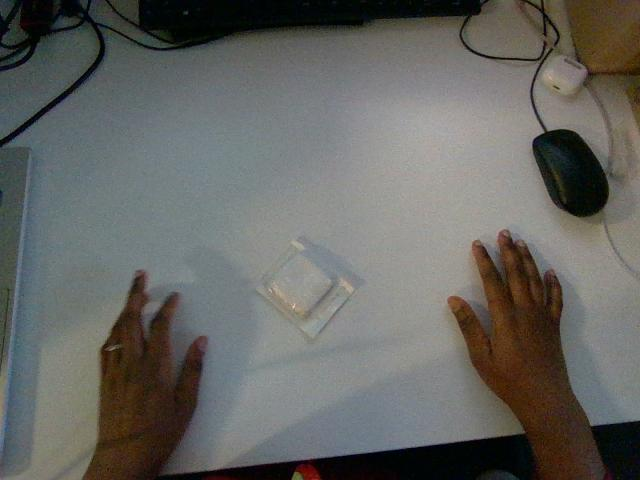gauze: (256, 237, 360, 338)
